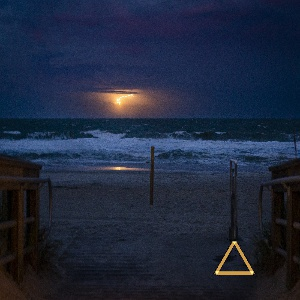triangle: (212, 238, 257, 279)
